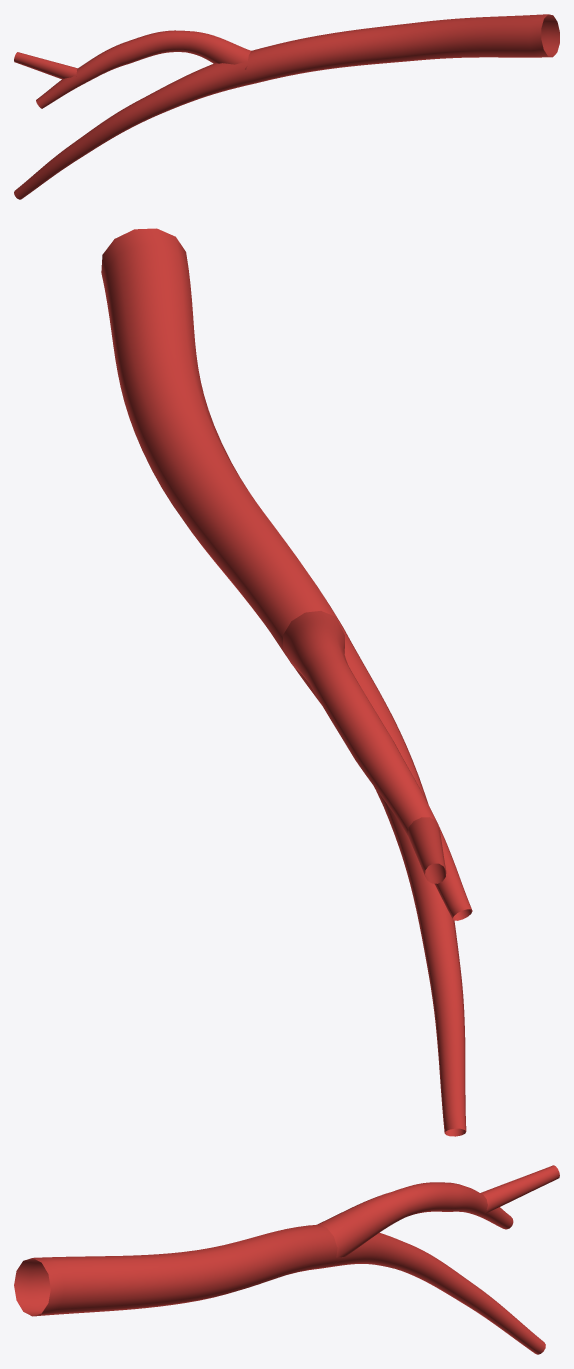
3 views of the same model, one above another, from view 1: azimuth 30°, elevation 25°; view 2: azimuth 150°, elevation 25°; view 3: azimuth 270°, elevation 25° (orthographic). The views are drawn at different scales.
Visible parts, largest first — view 1: 右肺外侧底段动脉; view 2: 右肺外侧底段动脉; view 3: 右肺外侧底段动脉.
Boxes of the visible parts, left/top/right/bottom form: 右肺外侧底段动脉: left=14, top=14, right=559, bottom=199; 右肺外侧底段动脉: left=101, top=228, right=472, bottom=1136; 右肺外侧底段动脉: left=14, top=1165, right=559, bottom=1354.
Bounding box in the file's own units: 0.1134 × 0.0702 × 0.1094.
